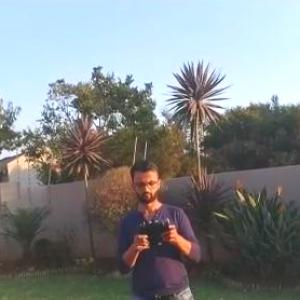follow: (112, 149, 210, 299)
